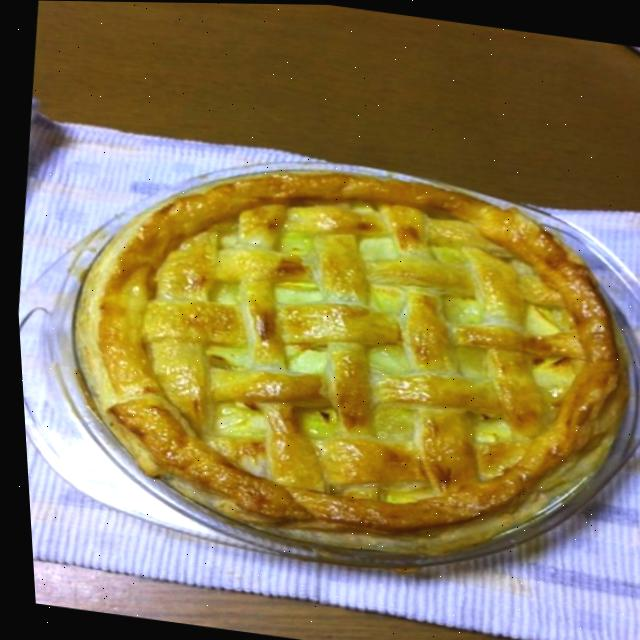炸货点心: (24, 120, 640, 587)
蛋糕甜品: (24, 120, 640, 587)
